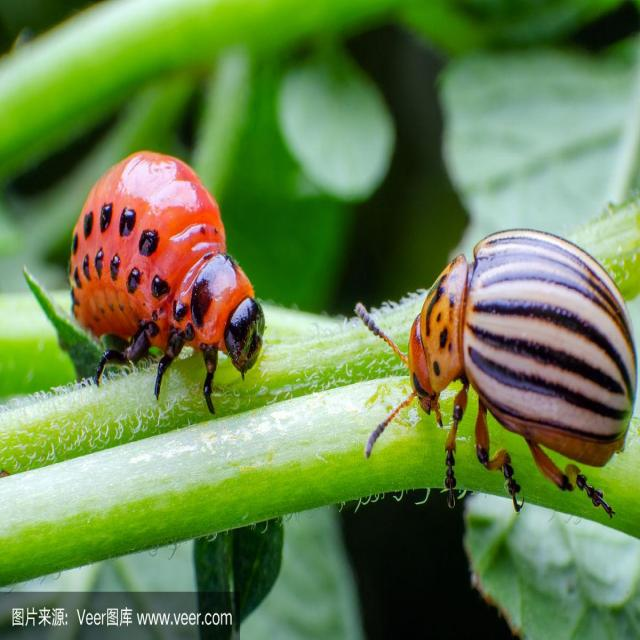ShuCaiHuaBanChong-Grown-: (380, 245, 629, 501)
ShuCaiHuaBanChong-Larva-: (65, 154, 269, 401)
